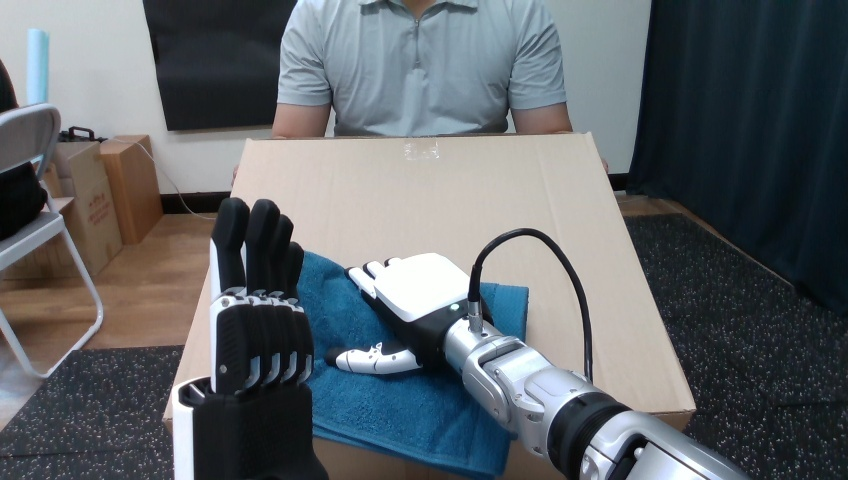left robot hand: (327, 228, 747, 479), (171, 197, 327, 479), (210, 197, 313, 394), (479, 236, 584, 374)
